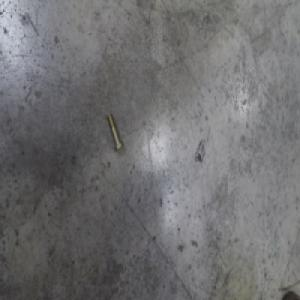Bolt: (105, 112, 122, 153)
